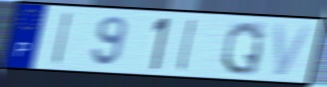1: (150, 16, 171, 72)
9: (89, 15, 129, 68)
I: (175, 17, 199, 73), (50, 11, 74, 66)
Q: (219, 20, 267, 77)
V: (272, 22, 315, 78)
